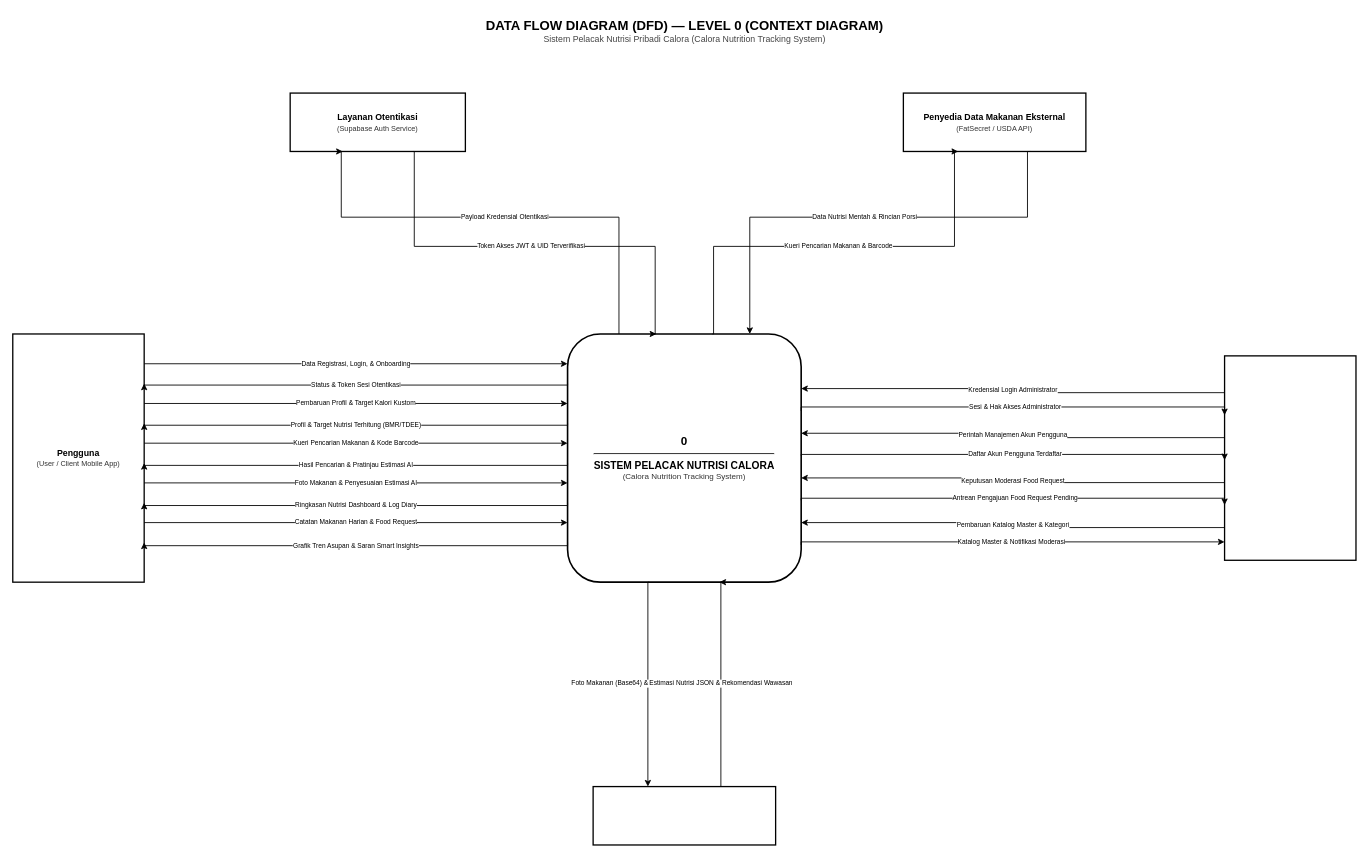
Some shapes in this 1369 by 858 pixel diagram are drawn without their labels. Here are the shapes that lost their labels. From the top down, the centre of each, then its label:
the point at 1290,458: Administrator (Admin Web Platform)
the point at 684,815: Layanan AI Vision & Generatif (Google Gemini AI Service)
